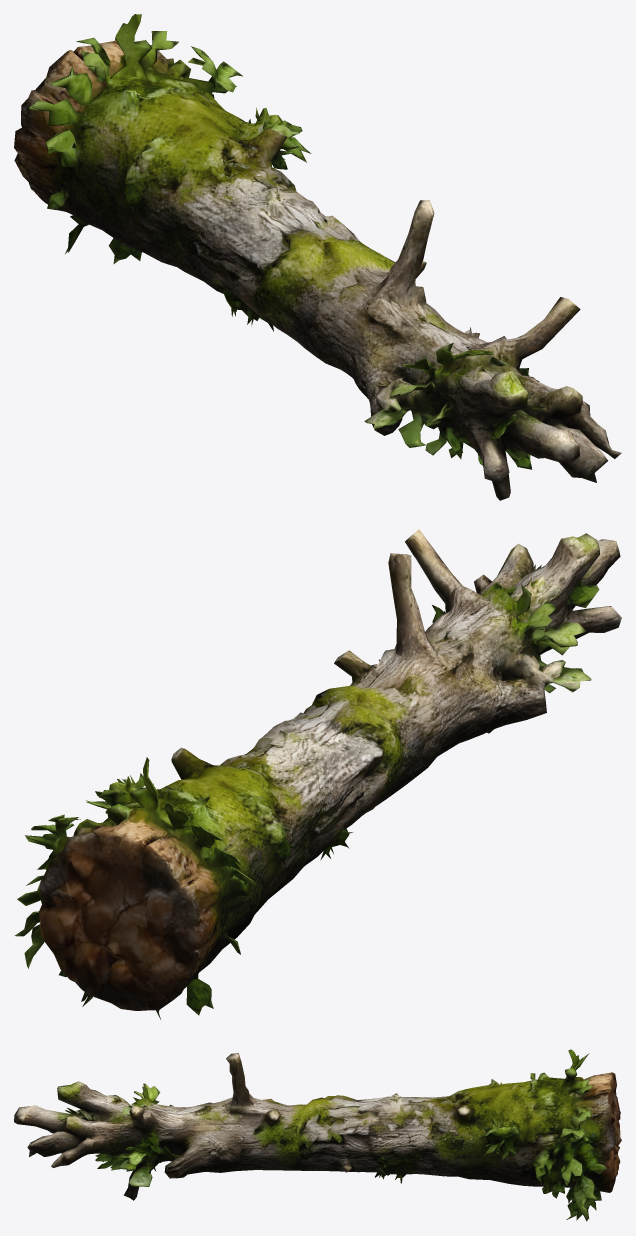
Rendered from fallen_log.fbx.
The picture shows the model from 3 angles, top to bottom: view 1: azimuth 30°, elevation 25°; view 2: azimuth 150°, elevation 25°; view 3: azimuth 270°, elevation 25°; orthographic projection. The views are drawn at different scales.
Visible parts, largest first — view 1: fallen_log; view 2: fallen_log; view 3: fallen_log.
Boxes of the visible parts, bbox=[...] form: fallen_log: bbox=[14, 14, 621, 500]; fallen_log: bbox=[14, 529, 621, 1019]; fallen_log: bbox=[14, 1049, 621, 1221].
Bounding box in the file's own units: 2.55 × 2.88 × 10.
Materials: 1 (1 with a texture image).
